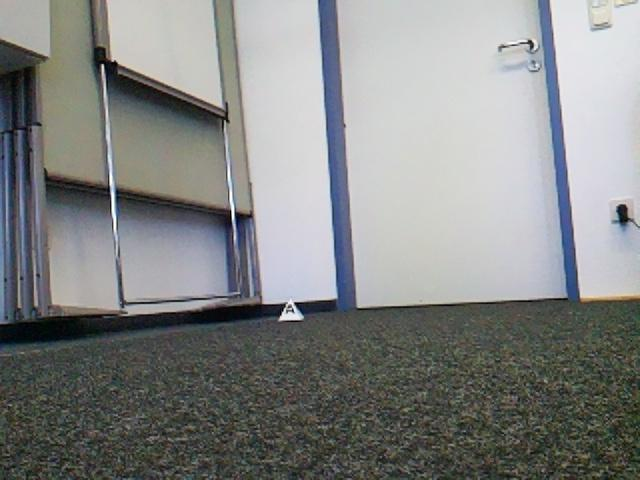A: (278, 298, 303, 320)
